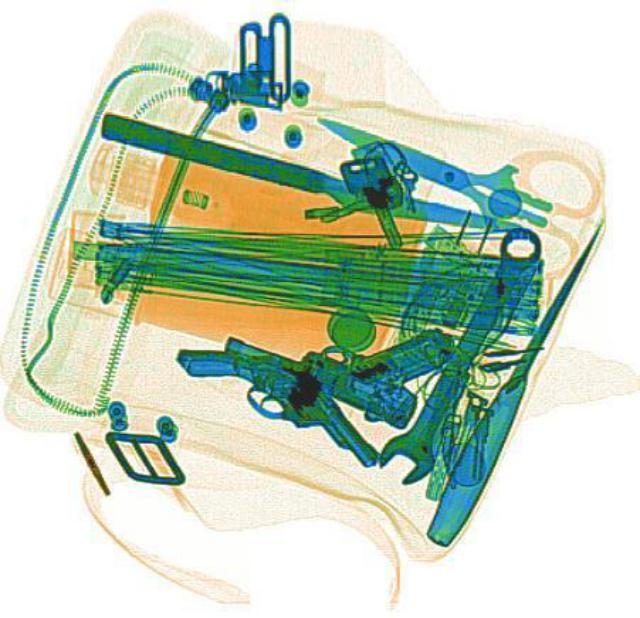Gun: (170, 301, 382, 505), (217, 257, 458, 431)
Knife: (420, 210, 608, 545), (93, 110, 521, 249), (298, 92, 564, 241)
Wrench: (367, 218, 553, 490)
